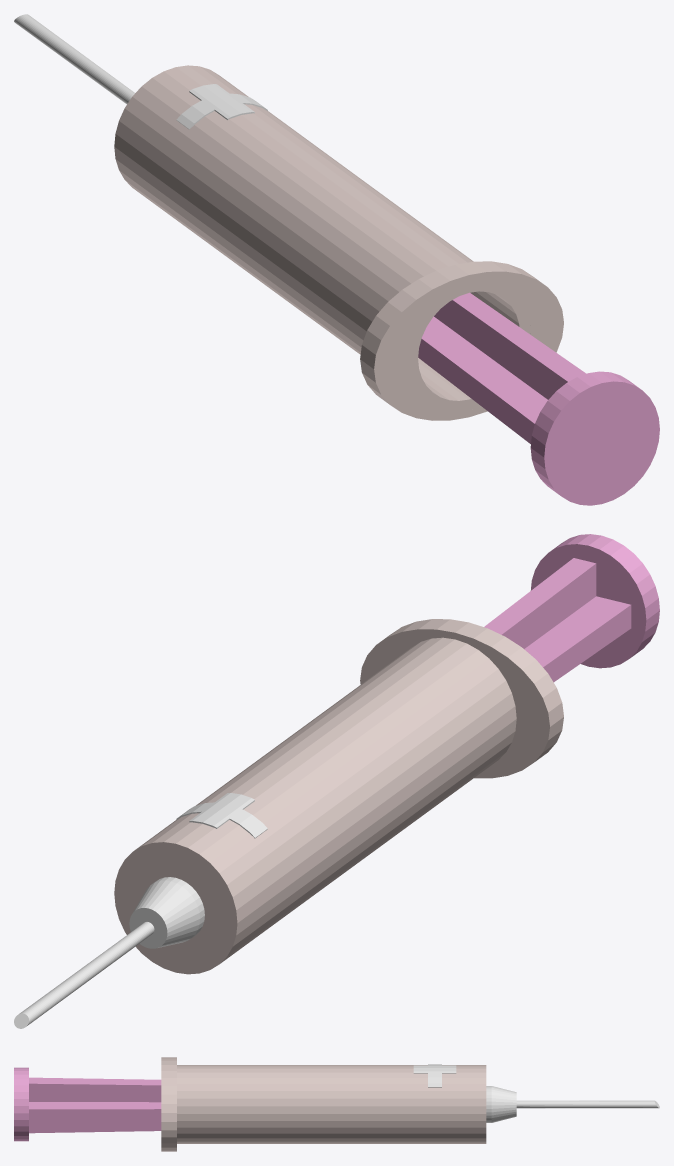
The model's file is Syring.fbx.
3 views of the same model, one above another, from view 1: azimuth 30°, elevation 25°; view 2: azimuth 150°, elevation 25°; view 3: azimuth 270°, elevation 25° (orthographic). The views are drawn at different scales.
Visible parts, largest first — view 1: Ampoule, Trigger; view 2: Ampoule, Trigger; view 3: Ampoule, Trigger.
Boxes of the visible parts, box(x1,y1,x2,y2) form: Ampoule: box(14, 14, 563, 420); Trigger: box(418, 292, 659, 505); Ampoule: box(14, 619, 563, 1028); Trigger: box(484, 534, 659, 682); Ampoule: box(161, 1057, 659, 1151); Trigger: box(14, 1067, 161, 1141).
Bounding box in the file's own units: 336 × 240 × 1785.
